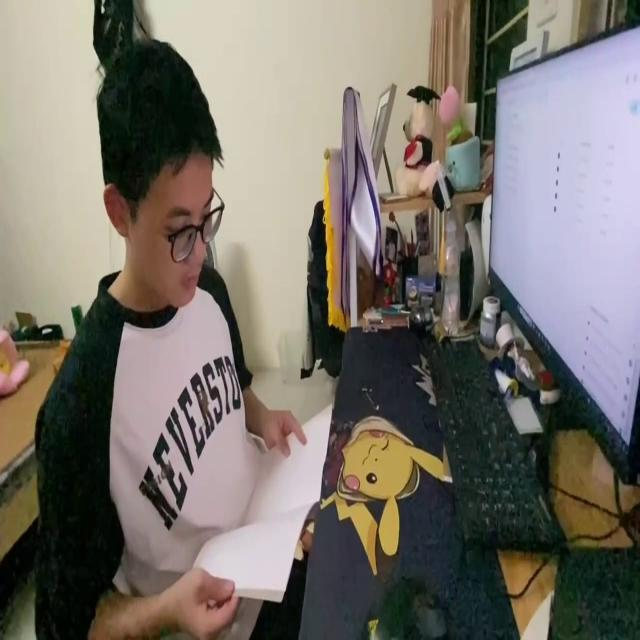book: (194, 398, 336, 605)
laptop: (481, 14, 640, 485)
student: (35, 32, 308, 640)
